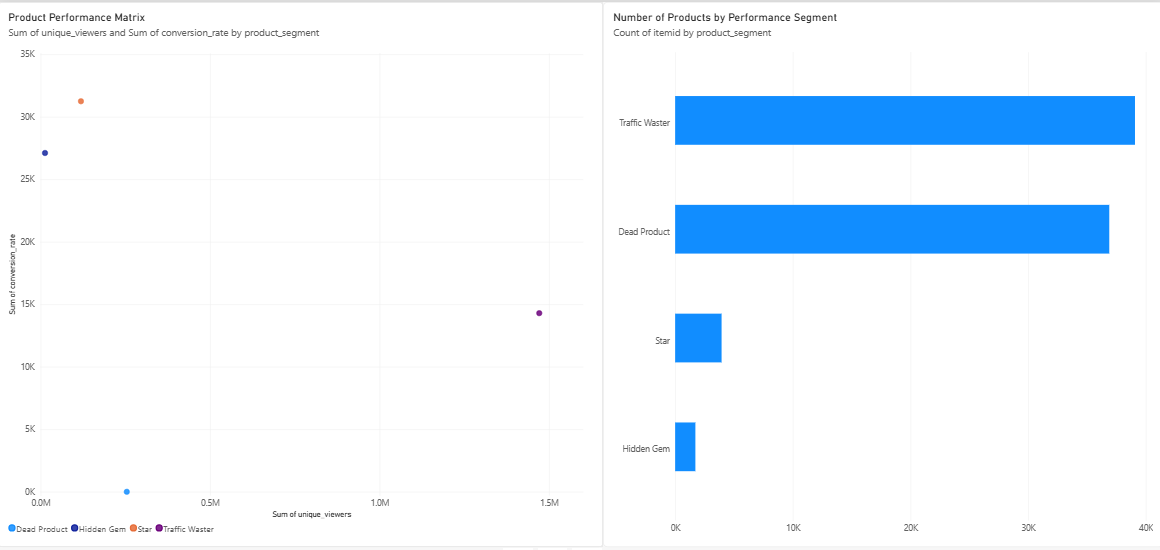

The dashboard page shown, as its layout file describes it:
{"tool":"powerbi","page":{"name":"Product Performance","canvas":[1920,1080],"ordinal":2},"visuals":[{"type":"scatterChart","title":"Product Performance Matrix","fields":{"Series":["product_performance.product_segment"],"X":["Sum(product_performance.unique_viewers)"],"Y":["Sum(product_performance.conversion_rate)"]},"box":[0,0,996.4,897.8],"z":0},{"type":"clusteredBarChart","title":"Number of Products by Performance Segment","fields":{"Category":["product_performance.product_segment"],"Y":["Count(product_performance.itemid)"]},"box":[996.4,0,923.1,897.8],"z":2}]}

Visuals, with their boxes on the page's 1920x1080 design canvas (x1, y1, x2, y2). These are canvas units, not pixel positions in the 1160x550 screenshot, which may show the page scaled, cropped or inside an application window:
"Product Performance Matrix" scatterChart: rect(0, 0, 996, 898)
"Number of Products by Performance Segment" clusteredBarChart: rect(996, 0, 1920, 898)
